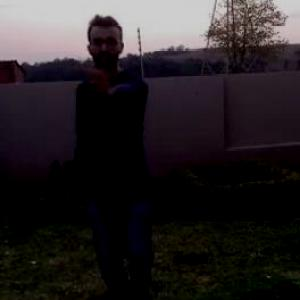takeoff-hand: (79, 55, 120, 92)
